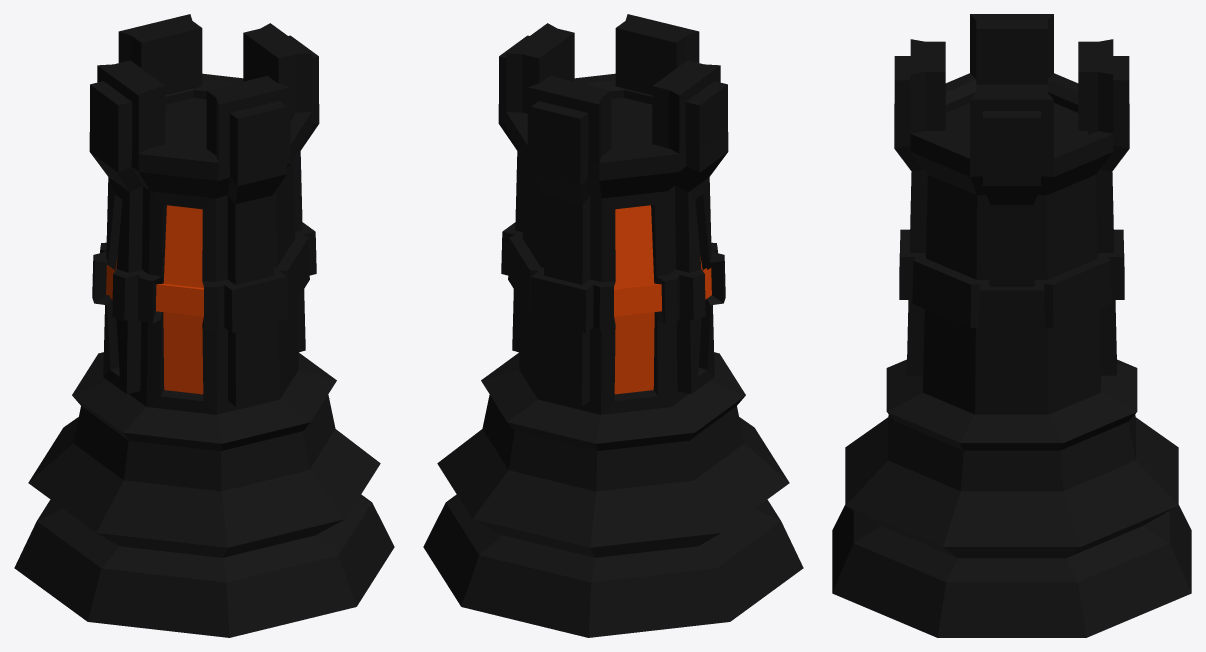
Rendered from tower.fbx.
The picture shows the model from 3 angles, left to right: view 1: azimuth 30°, elevation 25°; view 2: azimuth 150°, elevation 25°; view 3: azimuth 270°, elevation 25°; orthographic projection.
Visible parts, largest first — view 1: Black Rook 2; view 2: Black Rook 2; view 3: Black Rook 2.
Part boxes in pixels (x1=…): Black Rook 2: x1=14, y1=14, x2=394, y2=637; Black Rook 2: x1=423, y1=14, x2=803, y2=637; Black Rook 2: x1=832, y1=14, x2=1191, y2=637.
Size of the model in its own units: 4 by 6.2 by 4.
